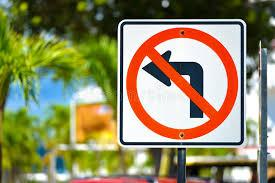no_left_turn: (125, 25, 238, 138)
